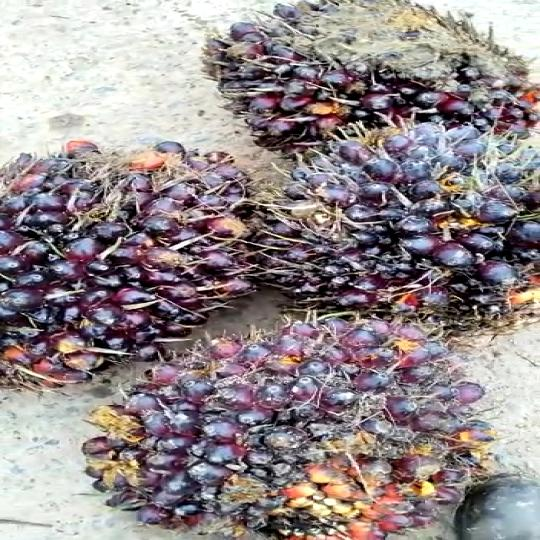kurang masak: (82, 315, 489, 540), (0, 135, 262, 388), (240, 140, 540, 353), (191, 2, 540, 135)
